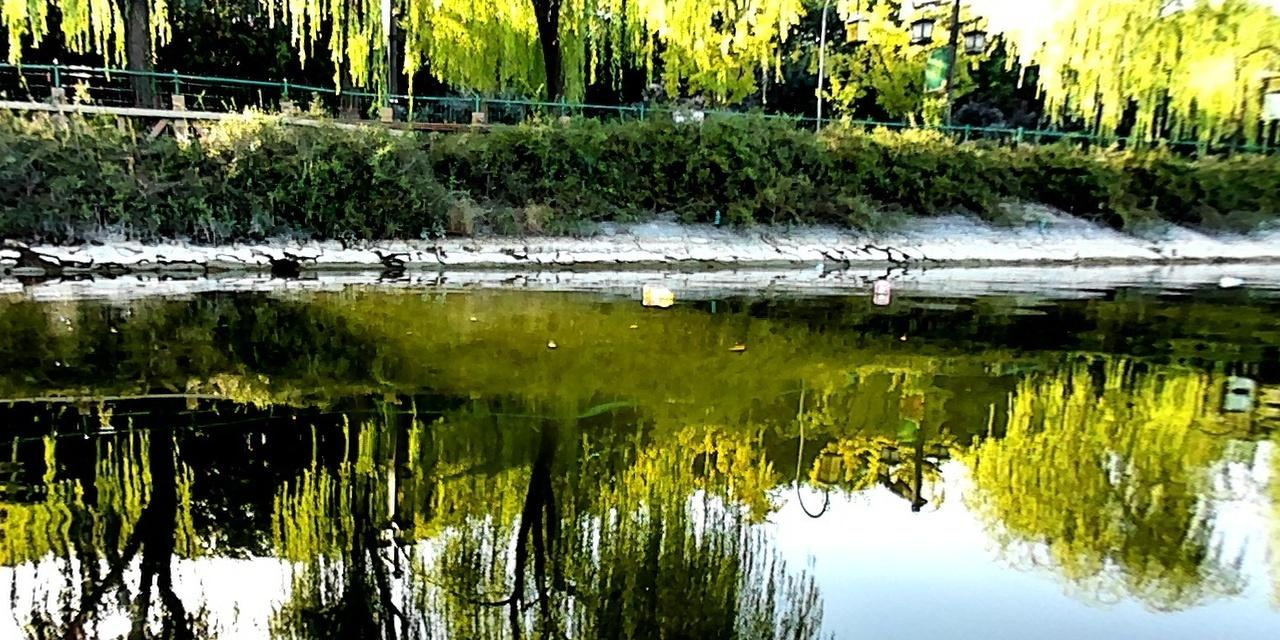bottle: (638, 282, 674, 299), (870, 277, 893, 294)
